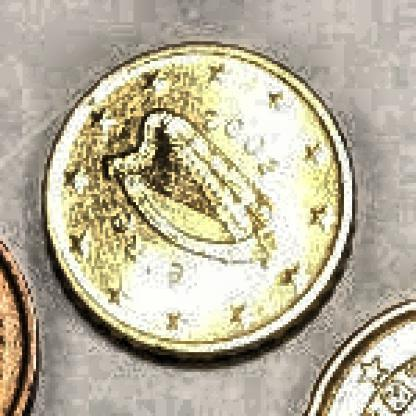coin: (45, 41, 356, 365)
